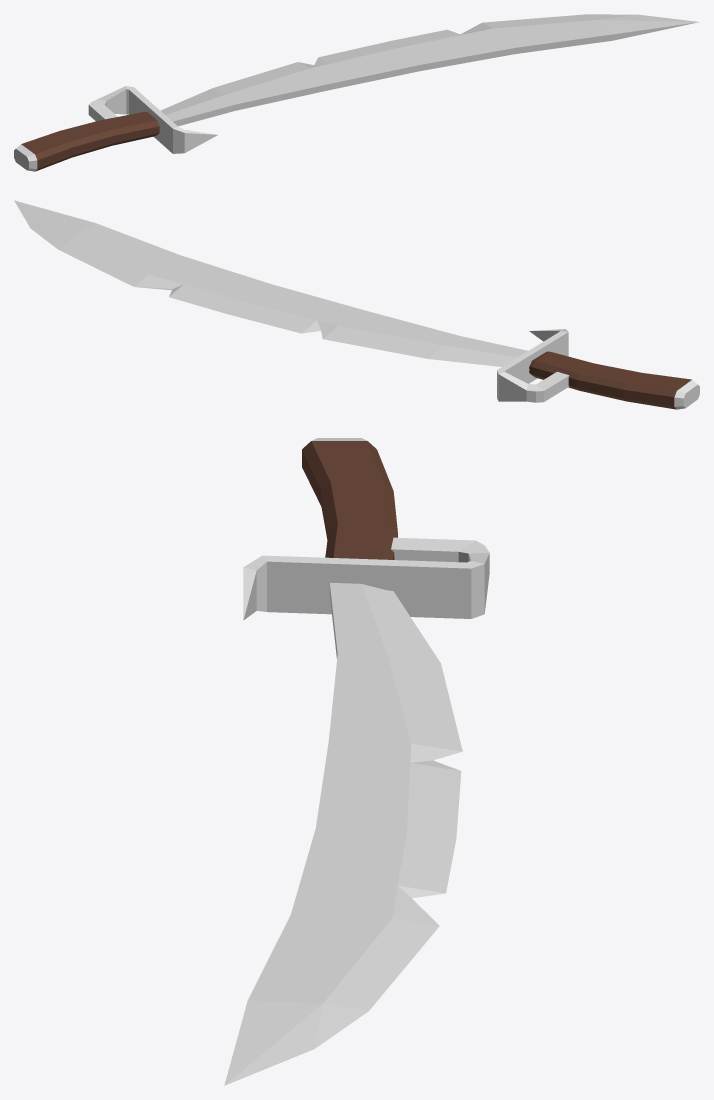
File: Sword Pirate.fbx
The picture shows the model from 3 angles, top to bottom: view 1: azimuth 30°, elevation 25°; view 2: azimuth 150°, elevation 25°; view 3: azimuth 270°, elevation 25°; orthographic projection. The views are drawn at different scales.
Parts seen in each view (by area): view 1: Sword Pirate; view 2: Sword Pirate; view 3: Sword Pirate.
Part boxes in pixels (box(x1,y1,x2,y2)): Sword Pirate: box(14, 14, 699, 171); Sword Pirate: box(14, 200, 699, 409); Sword Pirate: box(224, 438, 489, 1085).
Size of the model in its own units: 1.44 by 0.0535 by 0.2549.
